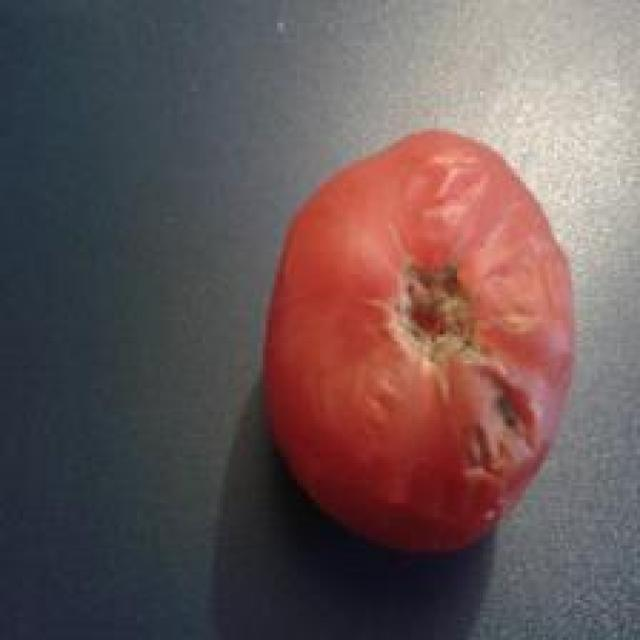overripe: (262, 125, 580, 550)
